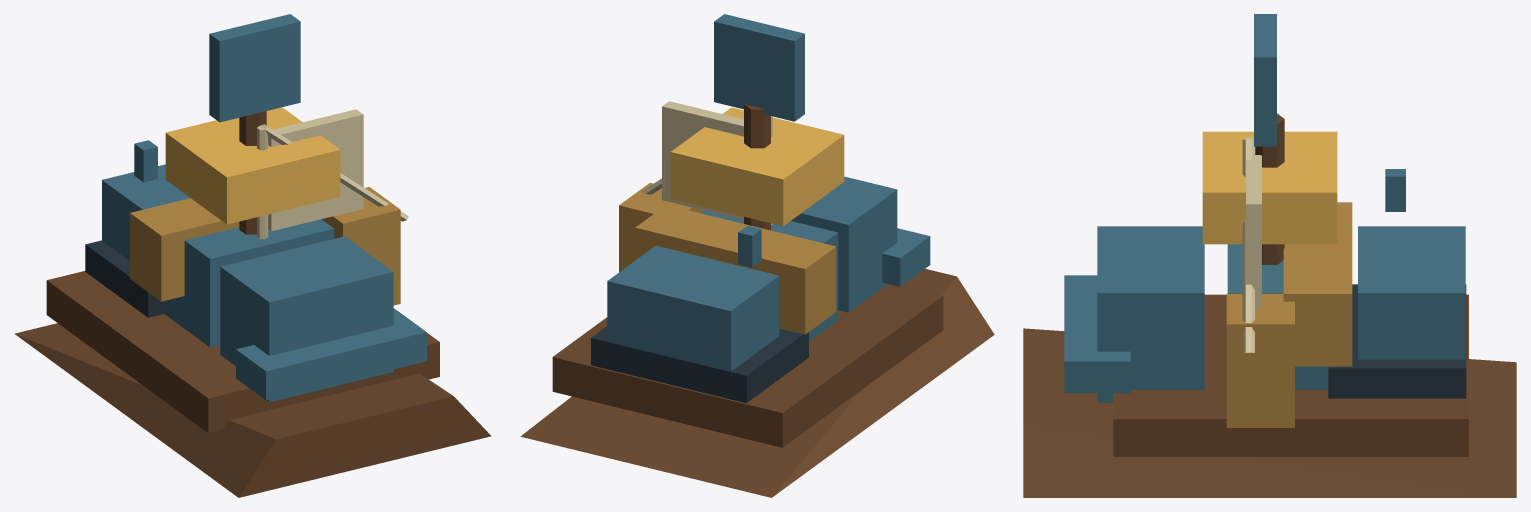
File: trade-ship.obj
3 renders of one model, left to right at view 1: azimuth 30°, elevation 25°; view 2: azimuth 150°, elevation 25°; view 3: azimuth 270°, elevation 25°, orthographic. The views are drawn at different scales.
Parts seen in each view (by area): view 1: ship; view 2: ship; view 3: ship.
Boxes of the visible parts, box(x1,y1,x2,y2) form: ship: box(14, 14, 491, 497); ship: box(520, 14, 994, 497); ship: box(1023, 14, 1516, 497).
Bounding box in the file's own units: 1.51 × 1.9 × 2.16.
